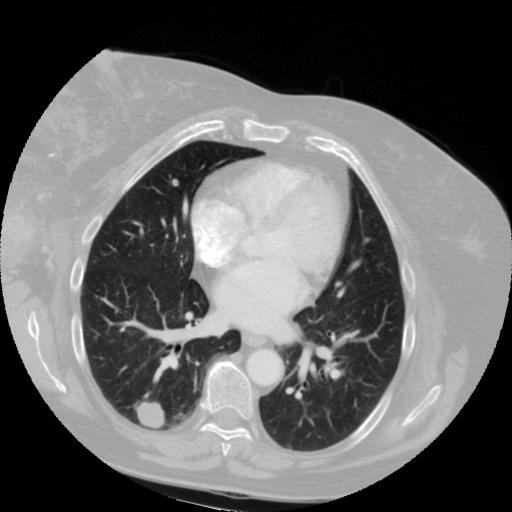nodule: (167, 174, 183, 190)
